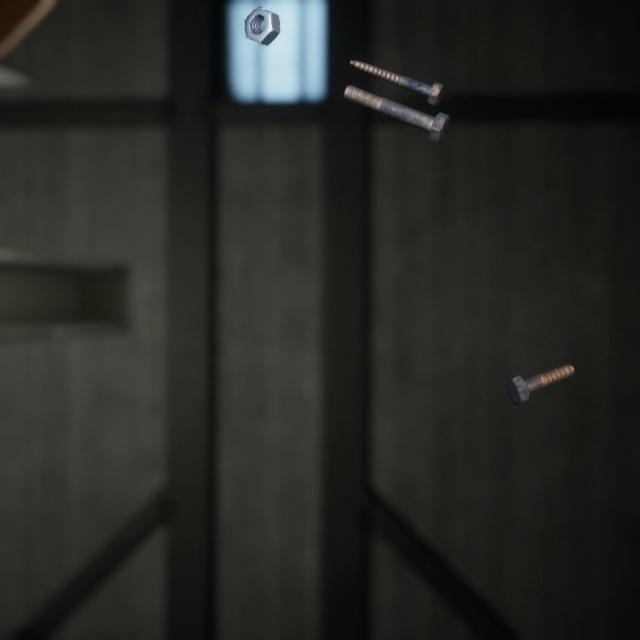bolt: (339, 69, 453, 135), (345, 45, 448, 99), (501, 340, 579, 390)
nut: (240, 0, 284, 41)
